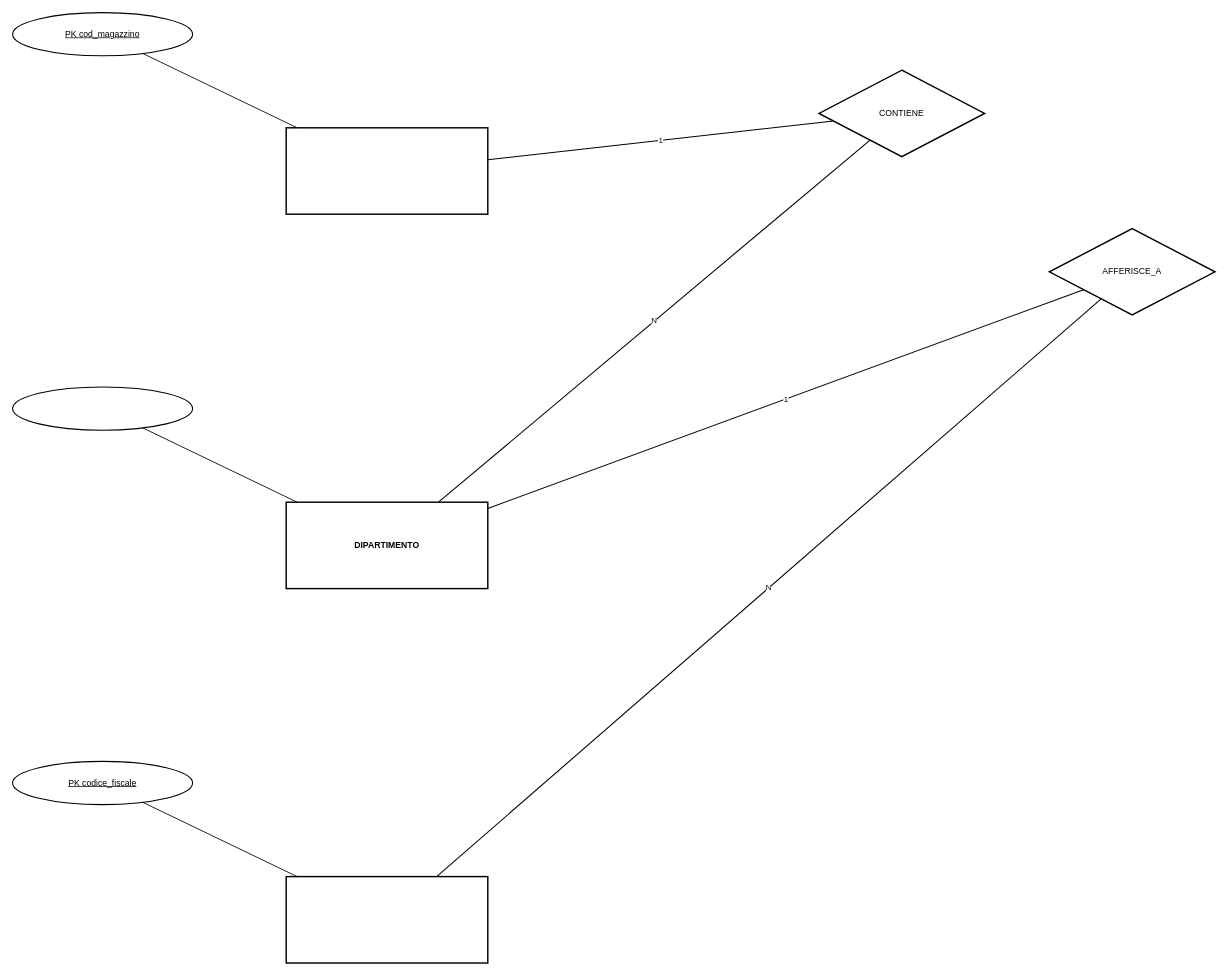
Image size: 1228x976. Some labels were removed from this diagram. The shapes that lost their labels are listed below. From the top down, each one's centre as x and y in pixels, then its label:
(x=386, y=171): MAGAZZINO
(x=102, y=408): SK nome_dipartimento
(x=386, y=919): IMPIEGATO
